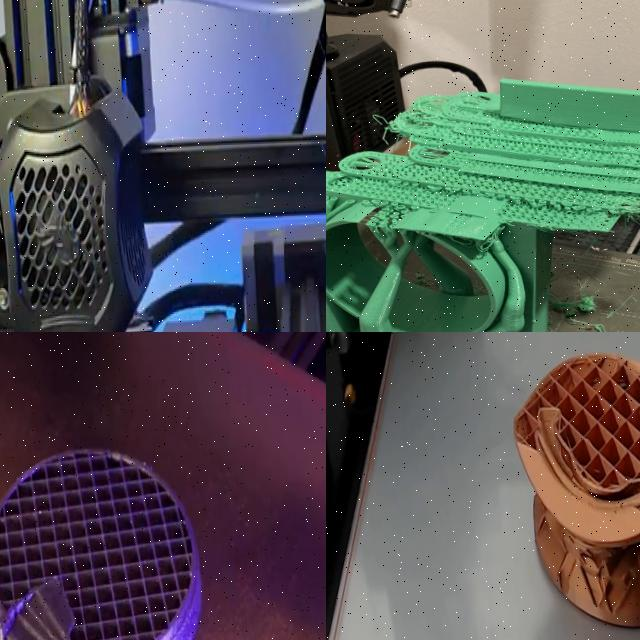spaghetti: (550, 296, 608, 326), (373, 108, 412, 142)
